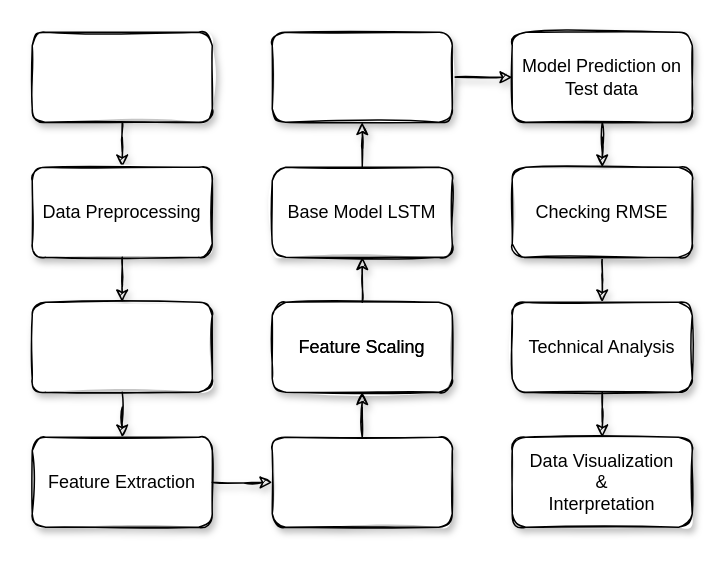
Some shapes in this 728 by 564 pixel diagram are drawn without their labels. The centre of each missing label's shape, as x and y in pixels:
"Data Collection" goes at [123,79].
"Feature Selection" goes at [123,349].
"Model Fitting" goes at [363,79].
"Splitting the data" goes at [363,484].
